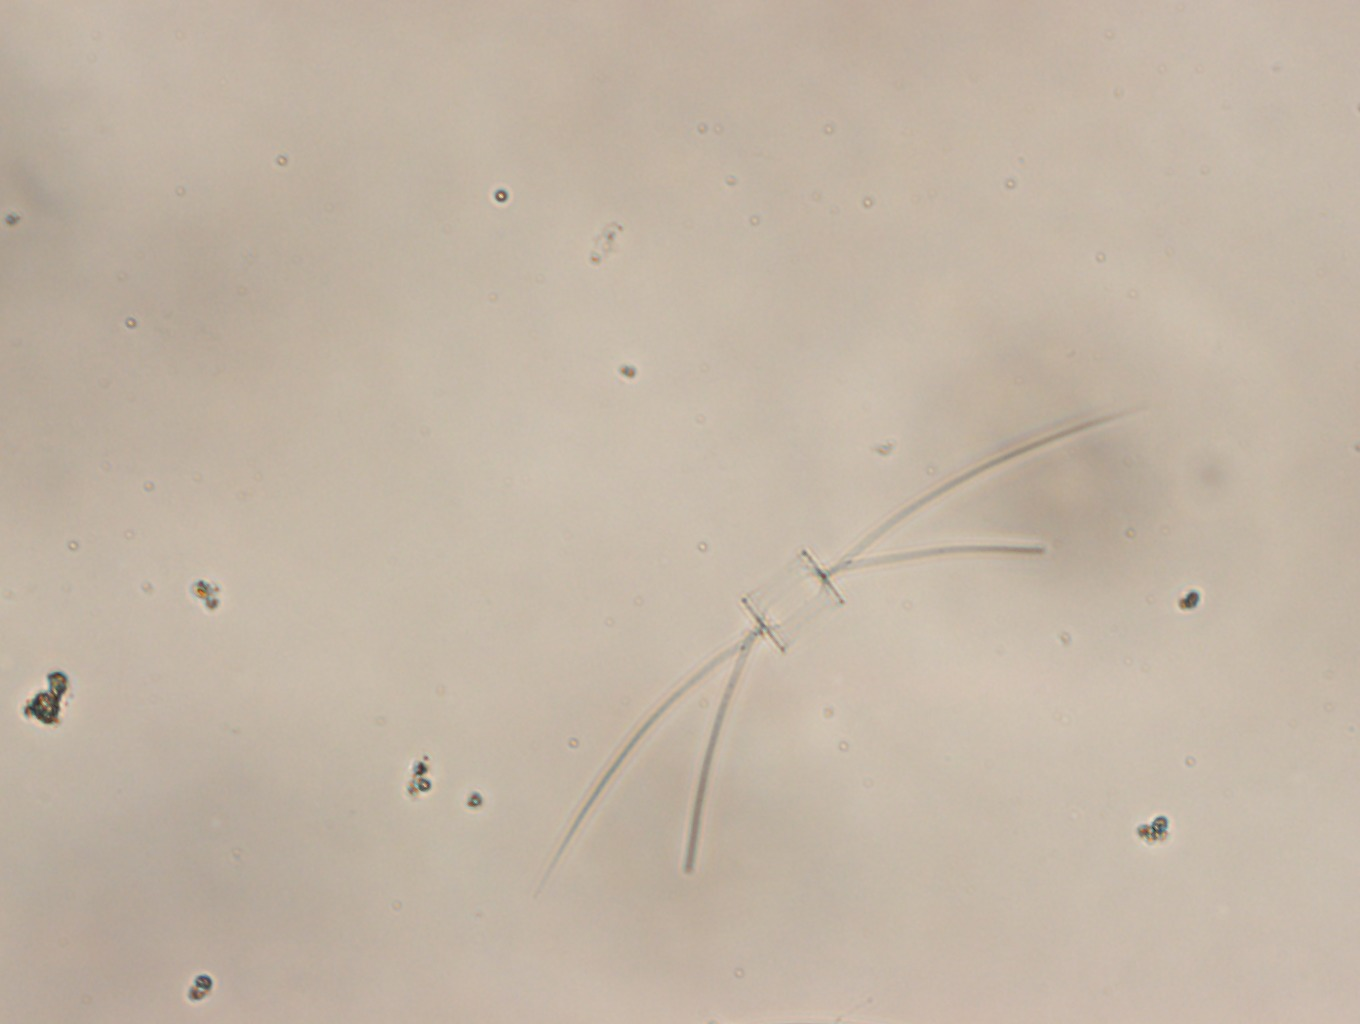chaetoceros: (544, 406, 1154, 897)
